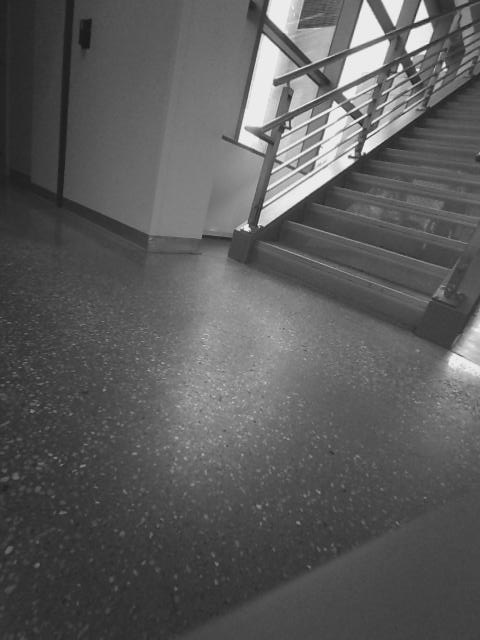ball: (224, 313, 322, 407)
